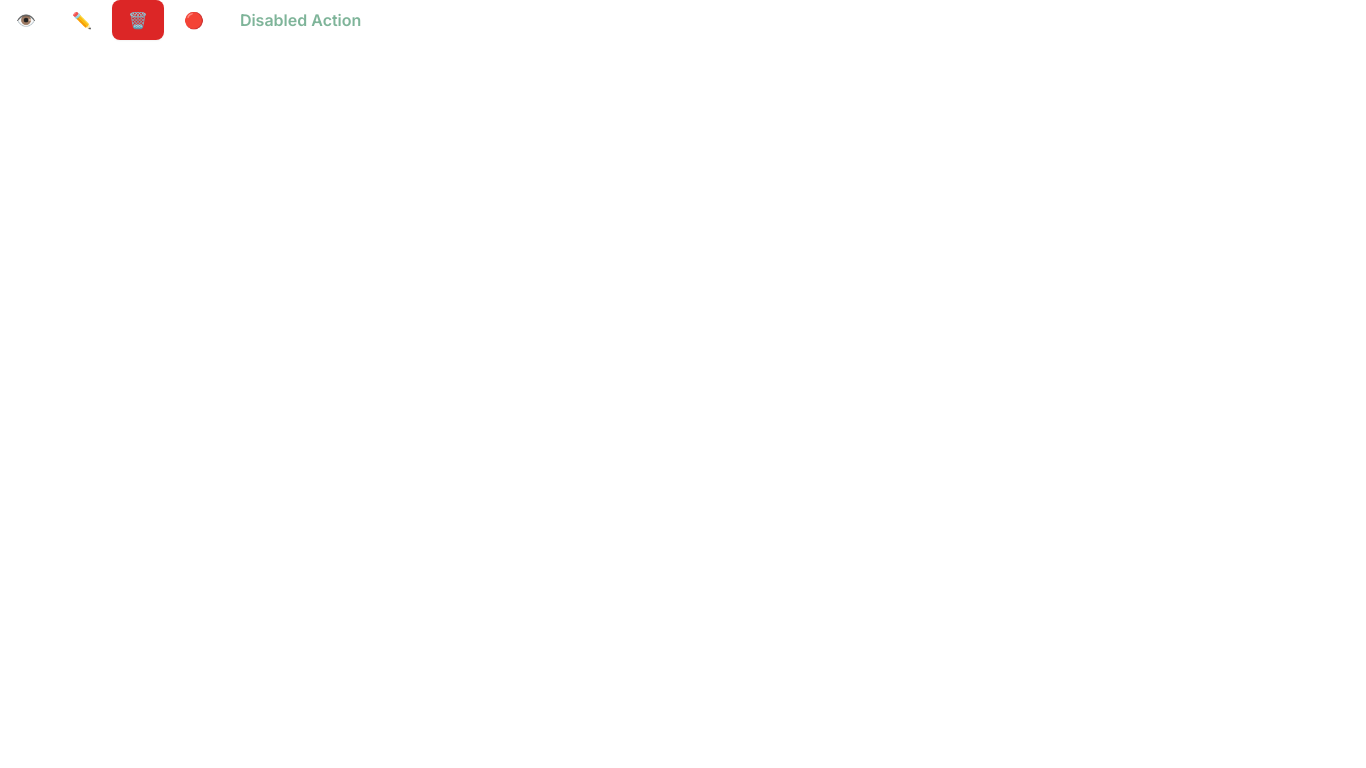
Test case: RowActions › shows confirmation dialog for actions with confirmMessage
Click the button named "Delete" at (138, 20), box [112,0,164,40]
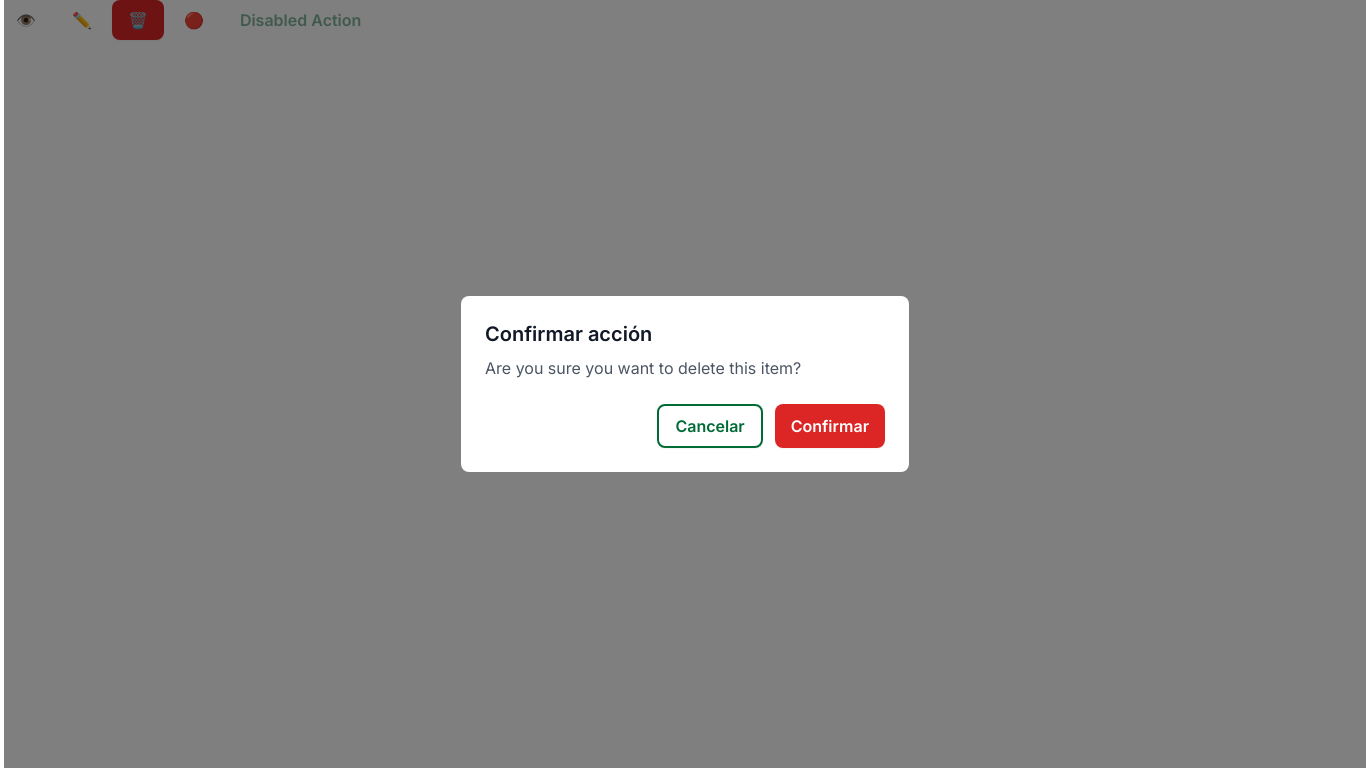
Now the heading "Confirmar acción" is shown, box [485,322,652,346]
Now the text "Are you sure you want to delete this item?" is shown, box [485,358,801,378]
Now the text "Cancelar" is shown, box [675,414,745,438]
